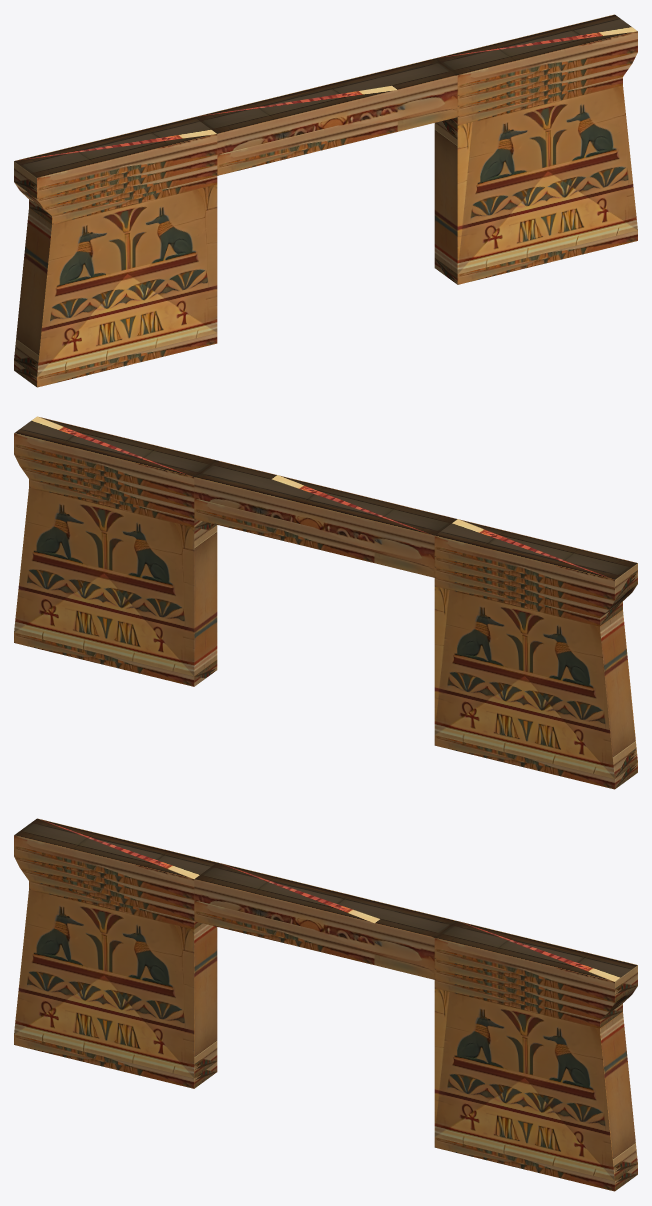
Rendered from LM_Egyptian_Gateway.fbx.
The picture shows the model from 3 angles, top to bottom: view 1: azimuth 30°, elevation 25°; view 2: azimuth 150°, elevation 25°; view 3: azimuth 330°, elevation 25°; orthographic projection.
Parts seen in each view (by area): view 1: LM_Egyptian_Gateway; view 2: LM_Egyptian_Gateway; view 3: LM_Egyptian_Gateway.
Part boxes in pixels (bbox=[...]): LM_Egyptian_Gateway: bbox=[14, 14, 637, 387]; LM_Egyptian_Gateway: bbox=[14, 416, 637, 789]; LM_Egyptian_Gateway: bbox=[14, 818, 637, 1191].
Bounding box in the file's own units: 30 × 2 × 10.
1 material, 1 textured.
